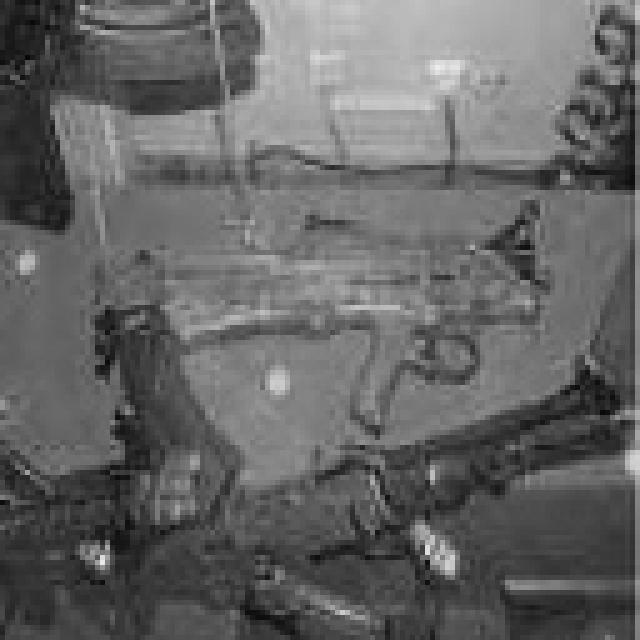Rifle: (0, 355, 640, 640), (66, 186, 585, 487), (0, 0, 260, 215)
